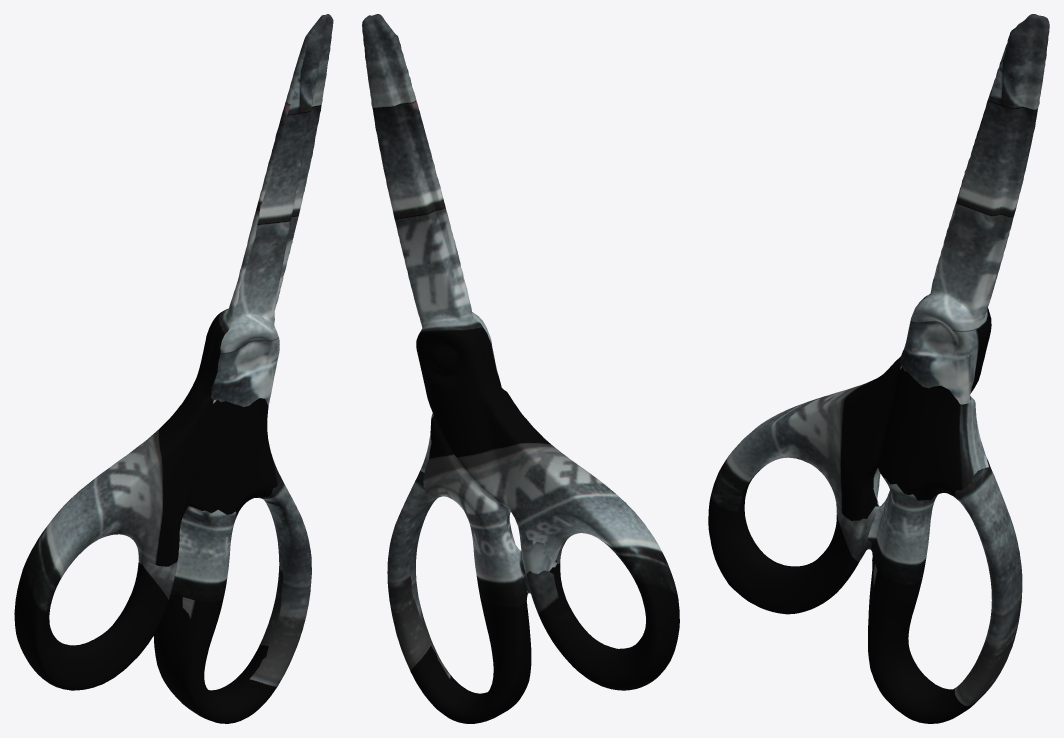
3 renders of one model, left to right at view 1: azimuth 30°, elevation 25°; view 2: azimuth 150°, elevation 25°; view 3: azimuth 330°, elevation 25°, orthographic. The views are drawn at different scales.
Bounding box in the file's own units: 0.0961 × 0.2015 × 0.0157.
